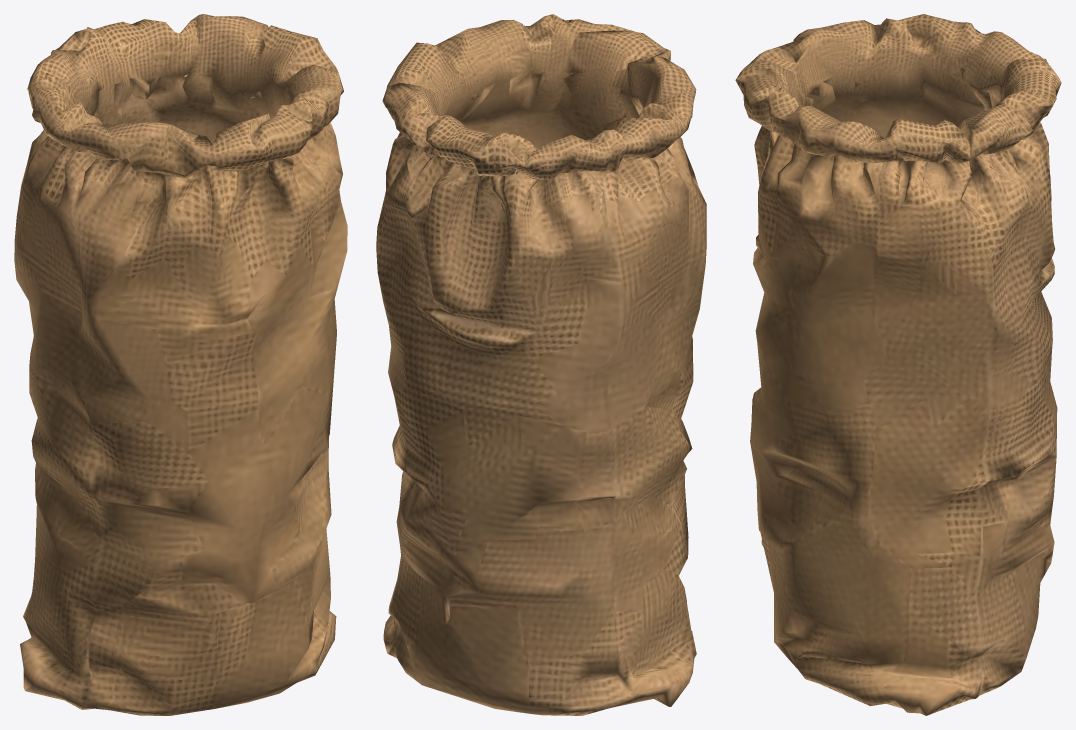
File: sack.glb
3 renders of one model, left to right at view 1: azimuth 30°, elevation 25°; view 2: azimuth 150°, elevation 25°; view 3: azimuth 270°, elevation 25°, orthographic. The views are drawn at different scales.
Bounding box in the file's own units: 0.4902 × 0.9502 × 0.4805.
1 material, 1 textured.
